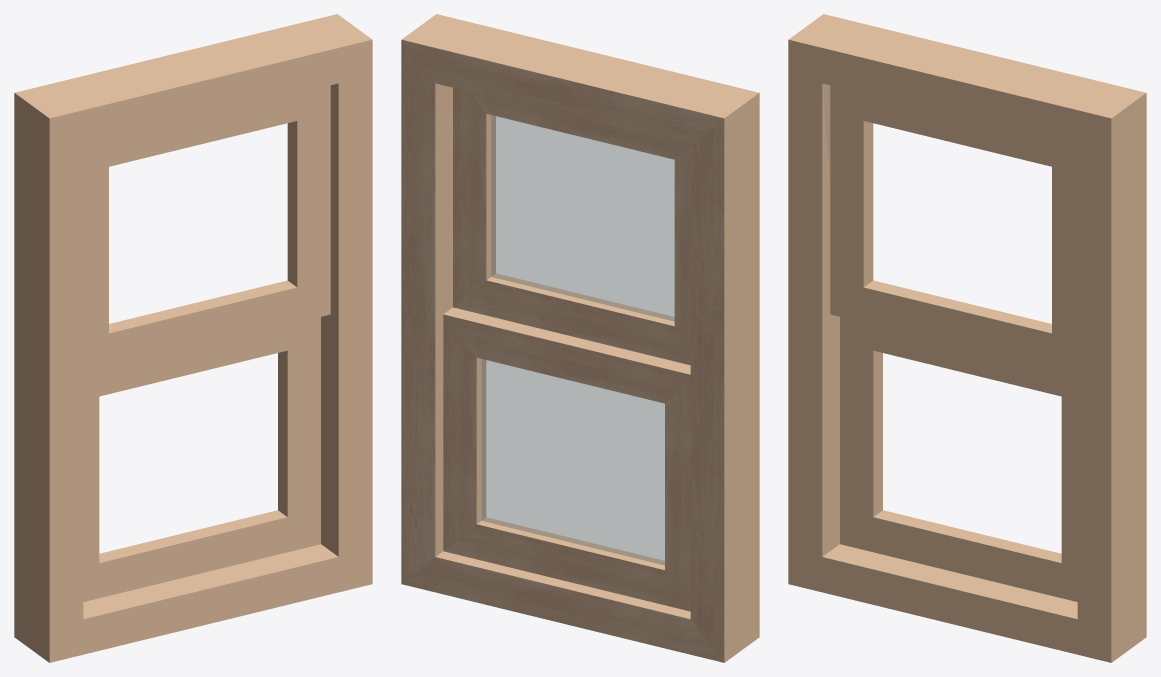
Rendered from finestra-texture.glb.
3 views of the same model, side by side, from view 1: azimuth 30°, elevation 25°; view 2: azimuth 150°, elevation 25°; view 3: azimuth 330°, elevation 25° (orthographic).
Visible parts, largest first — view 1: wallWindowSlide(Clone), windowTop, windowBottom; view 2: wallWindowSlide(Clone), windowBottom, windowTop; view 3: wallWindowSlide(Clone), windowTop, windowBottom.
Boxes of the visible parts, bbox=[...] form: wallWindowSlide(Clone): bbox=[14, 14, 372, 662]; windowTop: bbox=[83, 85, 330, 374]; windowBottom: bbox=[83, 317, 320, 601]; wallWindowSlide(Clone): bbox=[401, 14, 759, 662]; windowBottom: bbox=[443, 307, 690, 611]; windowTop: bbox=[453, 87, 690, 365]; wallWindowSlide(Clone): bbox=[788, 14, 1146, 662]; windowTop: bbox=[830, 85, 1077, 374]; windowBottom: bbox=[840, 317, 1077, 601].
Size of the model in its own units: 0.474 by 0.7635 by 0.0891.
Materials: 3 (1 with a texture image).
